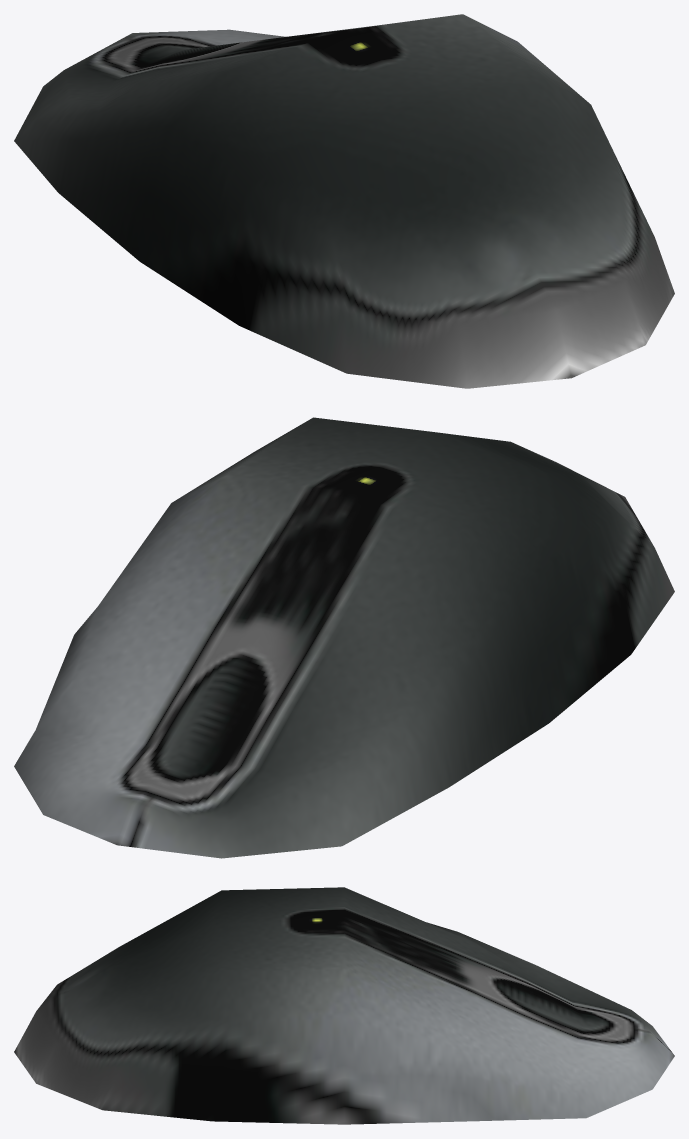
Rendered from Mouse.FBX.
3 views of the same model, one above another, from view 1: azimuth 30°, elevation 25°; view 2: azimuth 150°, elevation 25°; view 3: azimuth 270°, elevation 25° (orthographic). The views are drawn at different scales.
Visible parts, largest first — view 1: Mouse; view 2: Mouse; view 3: Mouse.
Part boxes in pixels (x1,y1,x2,y2): Mouse: [14, 14, 674, 388]; Mouse: [14, 417, 674, 858]; Mouse: [14, 887, 674, 1124].
Size of the model in its own units: 1.83 by 0.8208 by 3.51.
